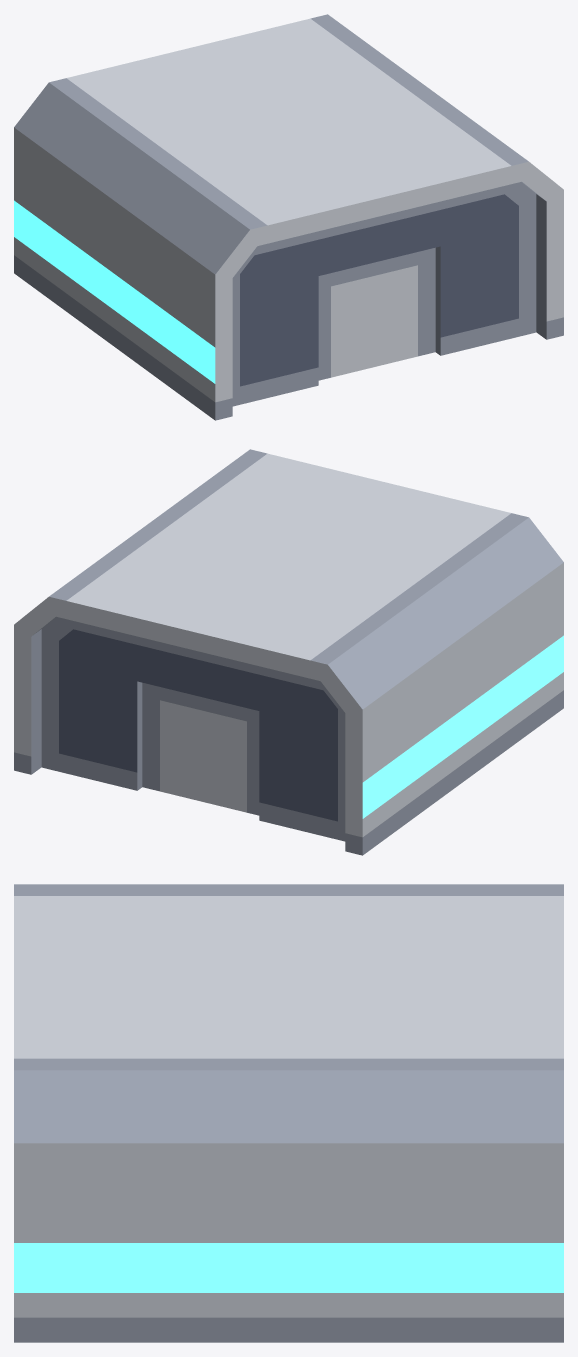
The model's file is hangar_smallA.glb.
3 views of the same model, one above another, from view 1: azimuth 30°, elevation 25°; view 2: azimuth 150°, elevation 25°; view 3: azimuth 270°, elevation 25° (orthographic). The views are drawn at different scales.
Parts seen in each view (by area): view 1: hangar_smallA, gate; view 2: hangar_smallA, gate; view 3: hangar_smallA.
Boxes of the visible parts, x1,y1,x2,y2 form: hangar_smallA: (14,14,563,420); gate: (232,182,536,406); hangar_smallA: (14,449,563,855); gate: (41,617,345,841); hangar_smallA: (14,884,563,1342).
Bounding box in the file's own units: 2 × 1 × 2.
